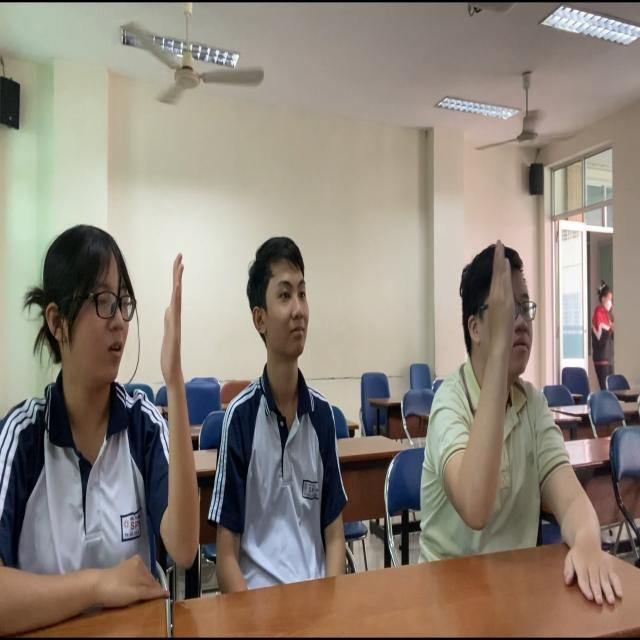raise_hand: (1, 199, 207, 632), (430, 205, 568, 559)
